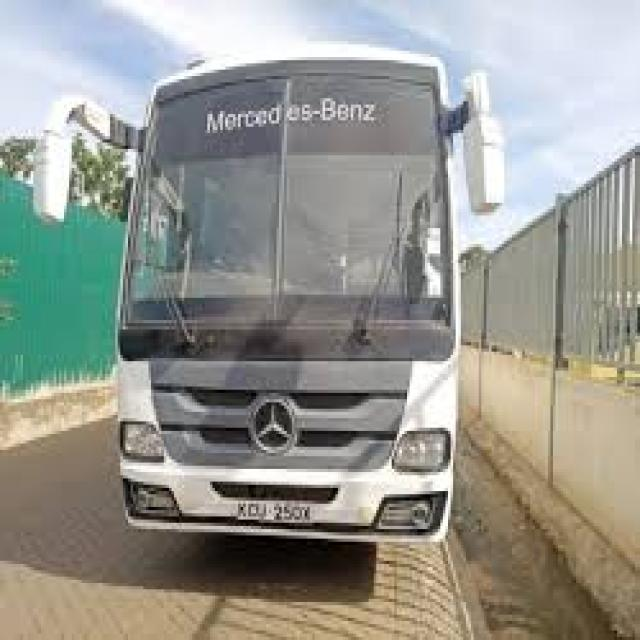bus: (12, 15, 557, 575)
